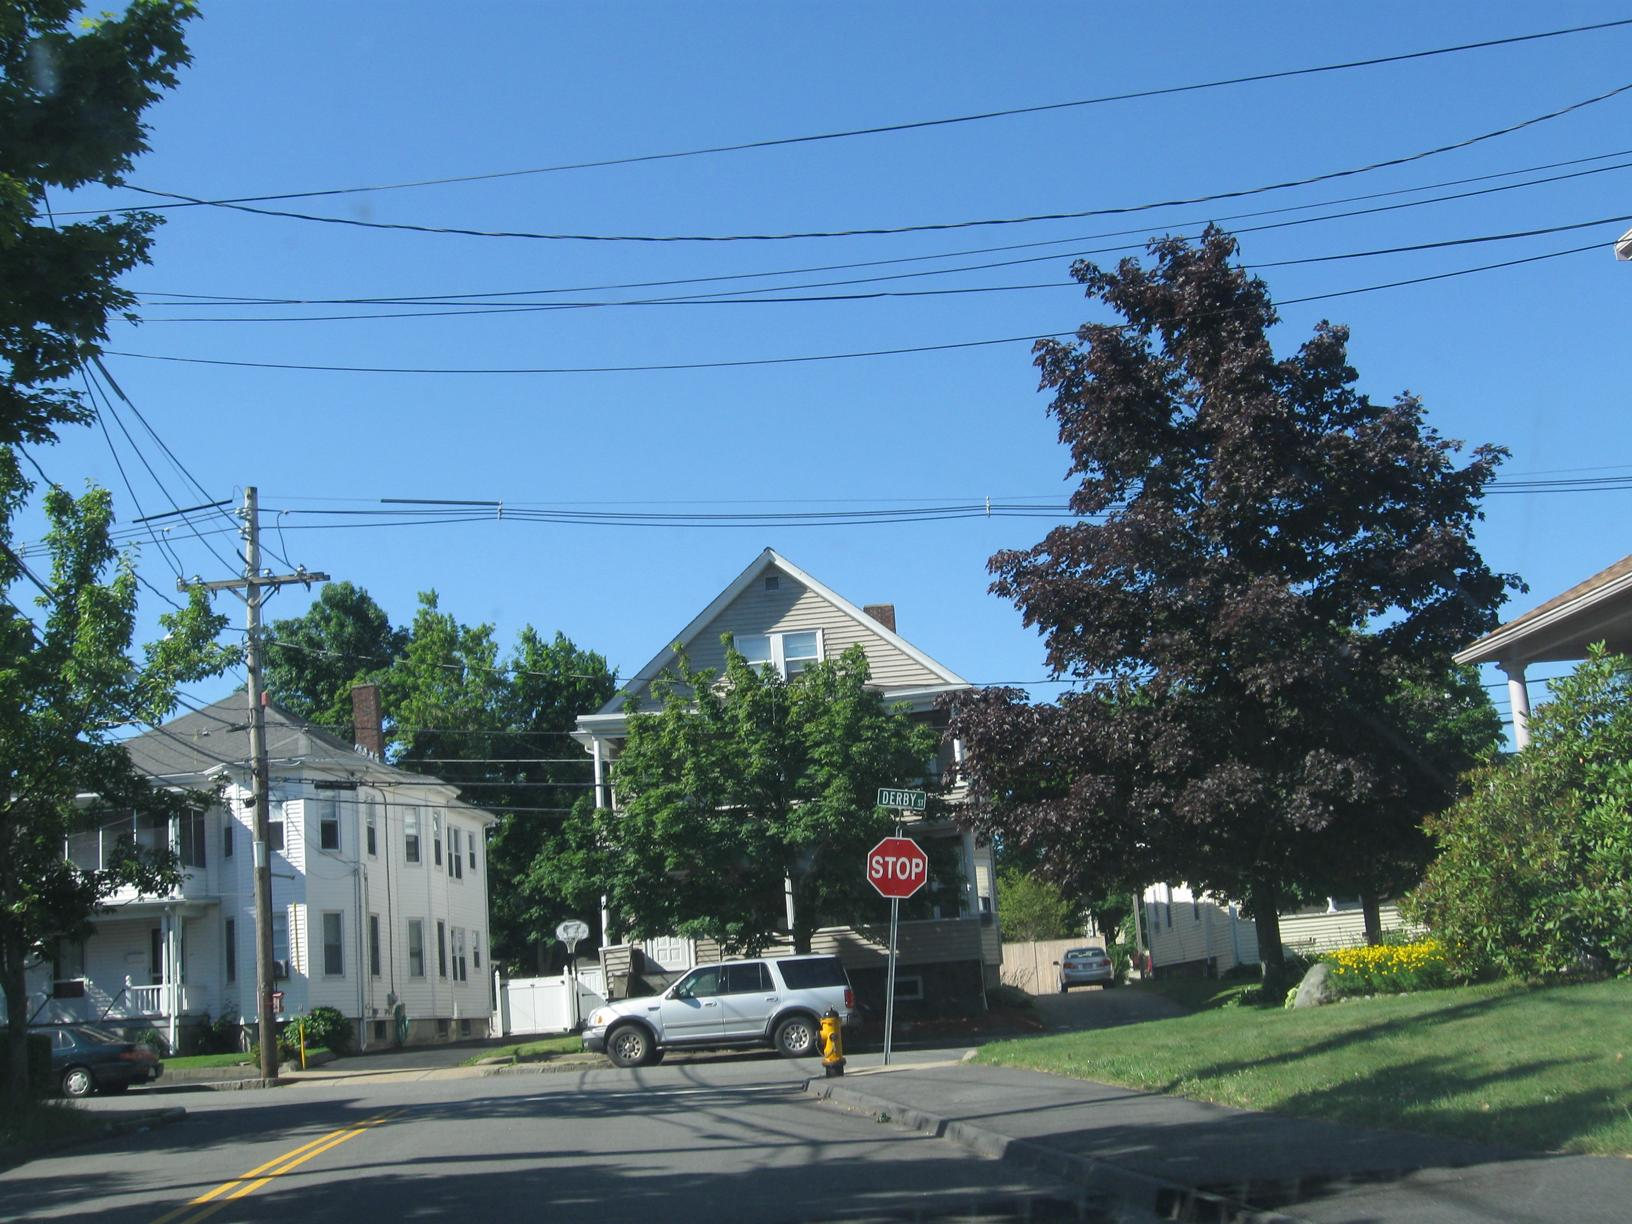car: (589, 968, 867, 1067), (1056, 939, 1117, 993)
stop: (865, 825, 929, 894)
